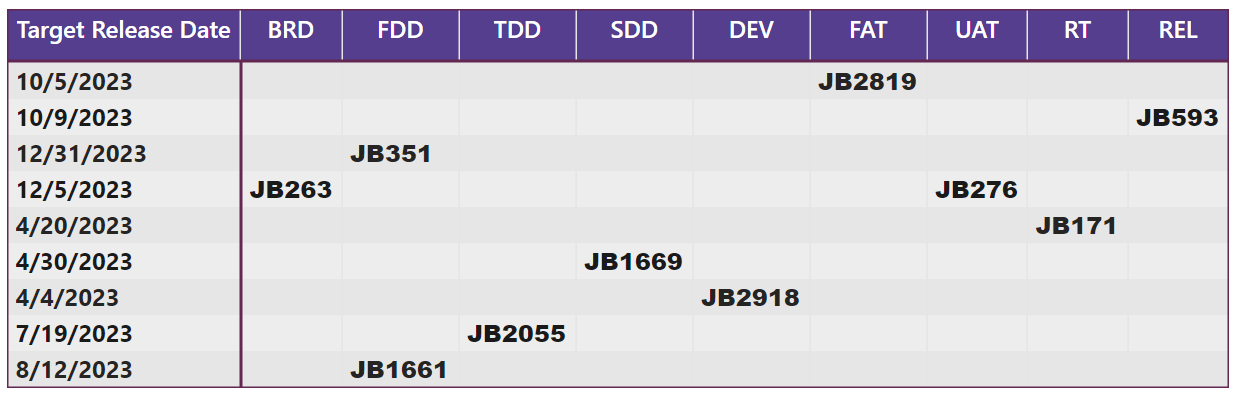

What the dashboard file says about the page in this screenshot:
{"tool":"powerbi","page":{"name":"Page 1","canvas":[1280,720],"ordinal":0},"visuals":[{"type":"pivotTable","fields":{"Columns":["Sheet2.Phase"],"Rows":["Sheet2.Target Release Date"],"Values":["Min(Sheet2.Project)"]},"box":[10,0,280,280],"z":0},{"type":"actionButton","box":[0,0,100,40],"z":2000}]}

Visuals, with their boxes in screenshot pixels (x1, y1, x2, y2):
pivotTable - Sheet2.Phase x Sheet2.Target Release Date: l=92, t=3, r=239, b=150
actionButton: l=87, t=3, r=139, b=24
